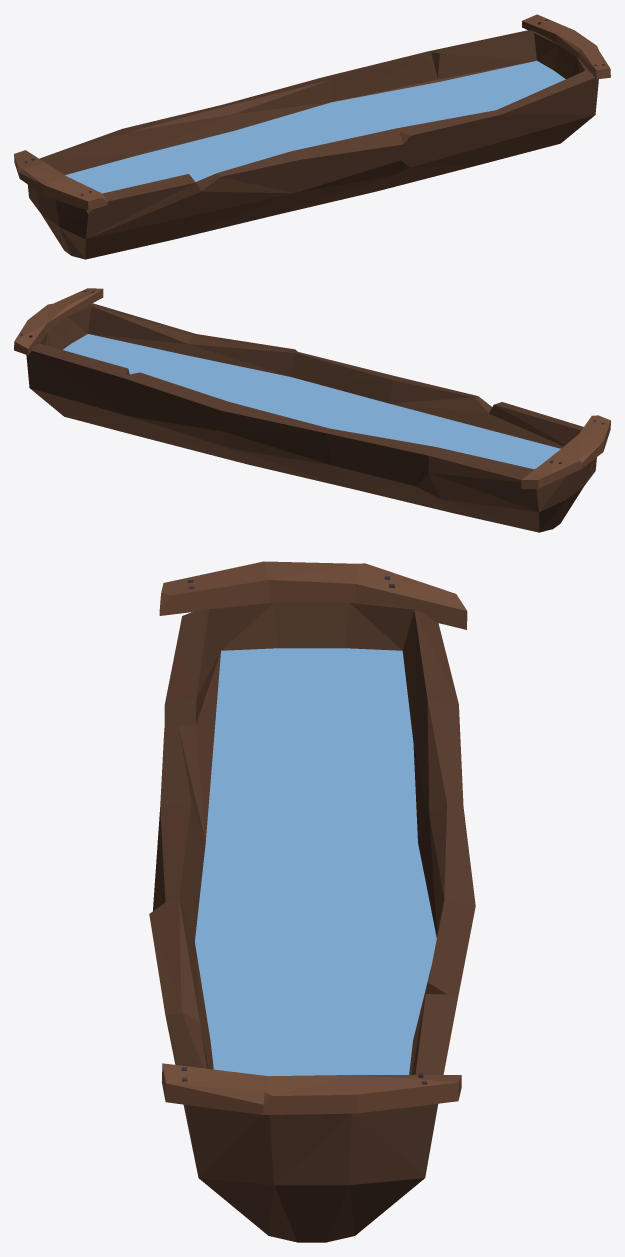
Rendered from Trough_Water.fbx.
3 views of the same model, one above another, from view 1: azimuth 30°, elevation 25°; view 2: azimuth 150°, elevation 25°; view 3: azimuth 270°, elevation 25° (orthographic). The views are drawn at different scales.
Parts seen in each view (by area): view 1: Trough_Water; view 2: Trough_Water; view 3: Trough_Water.
Part boxes in pixels (x1=…): Trough_Water: x1=14, y1=14, x2=610, y2=259; Trough_Water: x1=14, y1=288, x2=610, y2=532; Trough_Water: x1=149, y1=561, x2=475, y2=1242.
Bounding box in the file's own units: 3.2 × 0.4989 × 0.8139.
